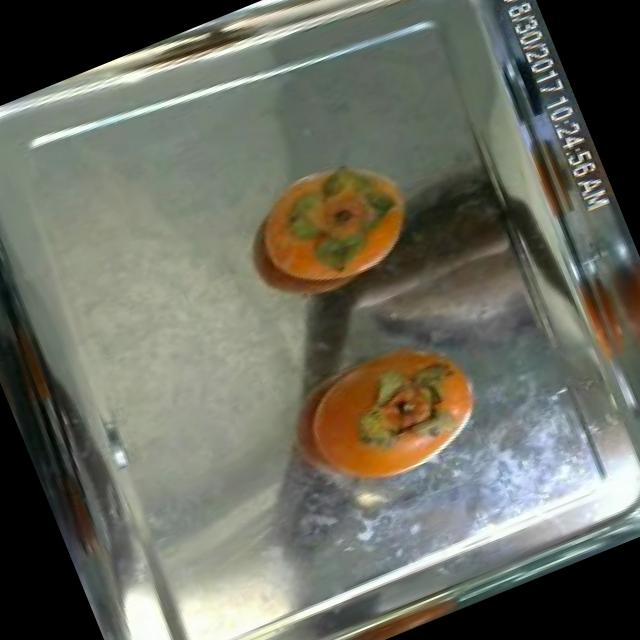Fruit: (315, 160, 562, 392), (276, 304, 508, 508), (225, 129, 443, 321)
